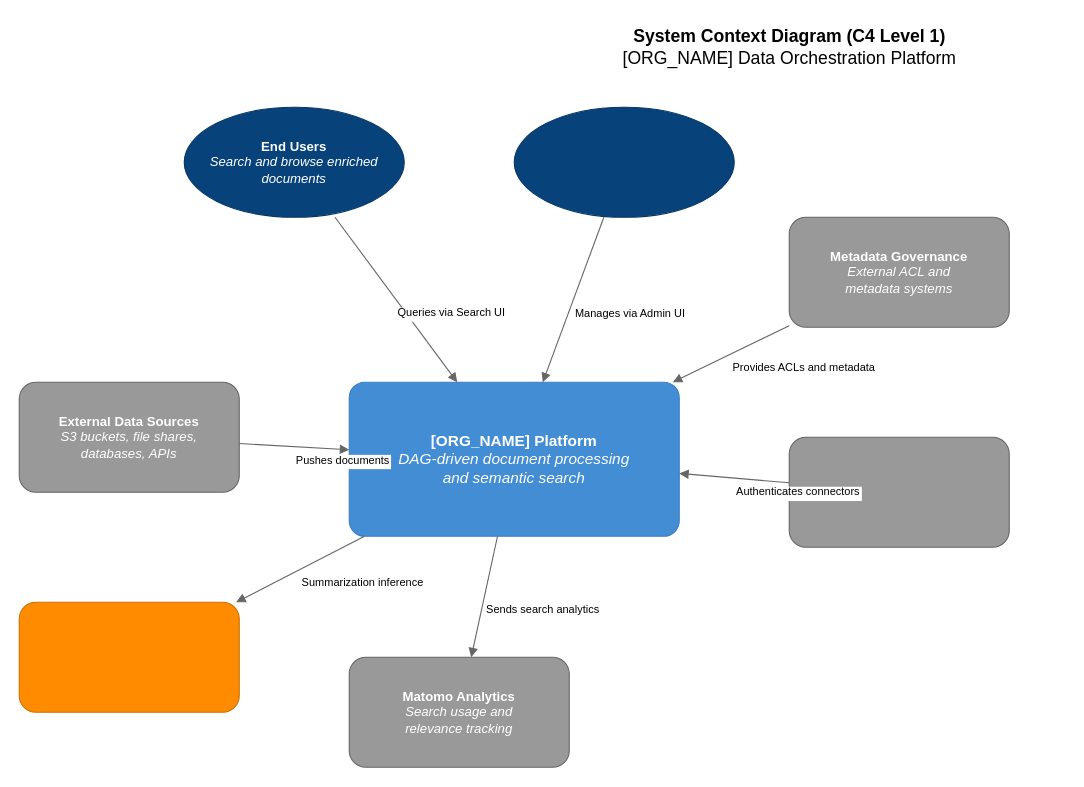
Image size: 1084x787. Some labels were removed from this diagram. The centre of each missing label's shape, as x and y in pixels:
Administrators Configure pipelines and manage accounts: [623,161]
AWS Bedrock Foundation model inference: [128,656]
Okta Identity Provider Enterprise SSO and identity: [898,491]
